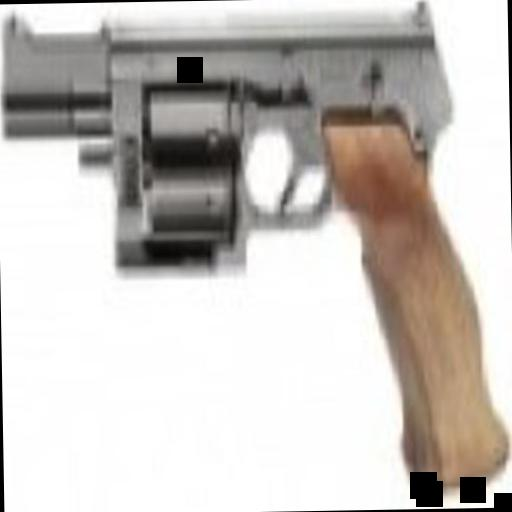Handgun: (1, 2, 508, 490)
